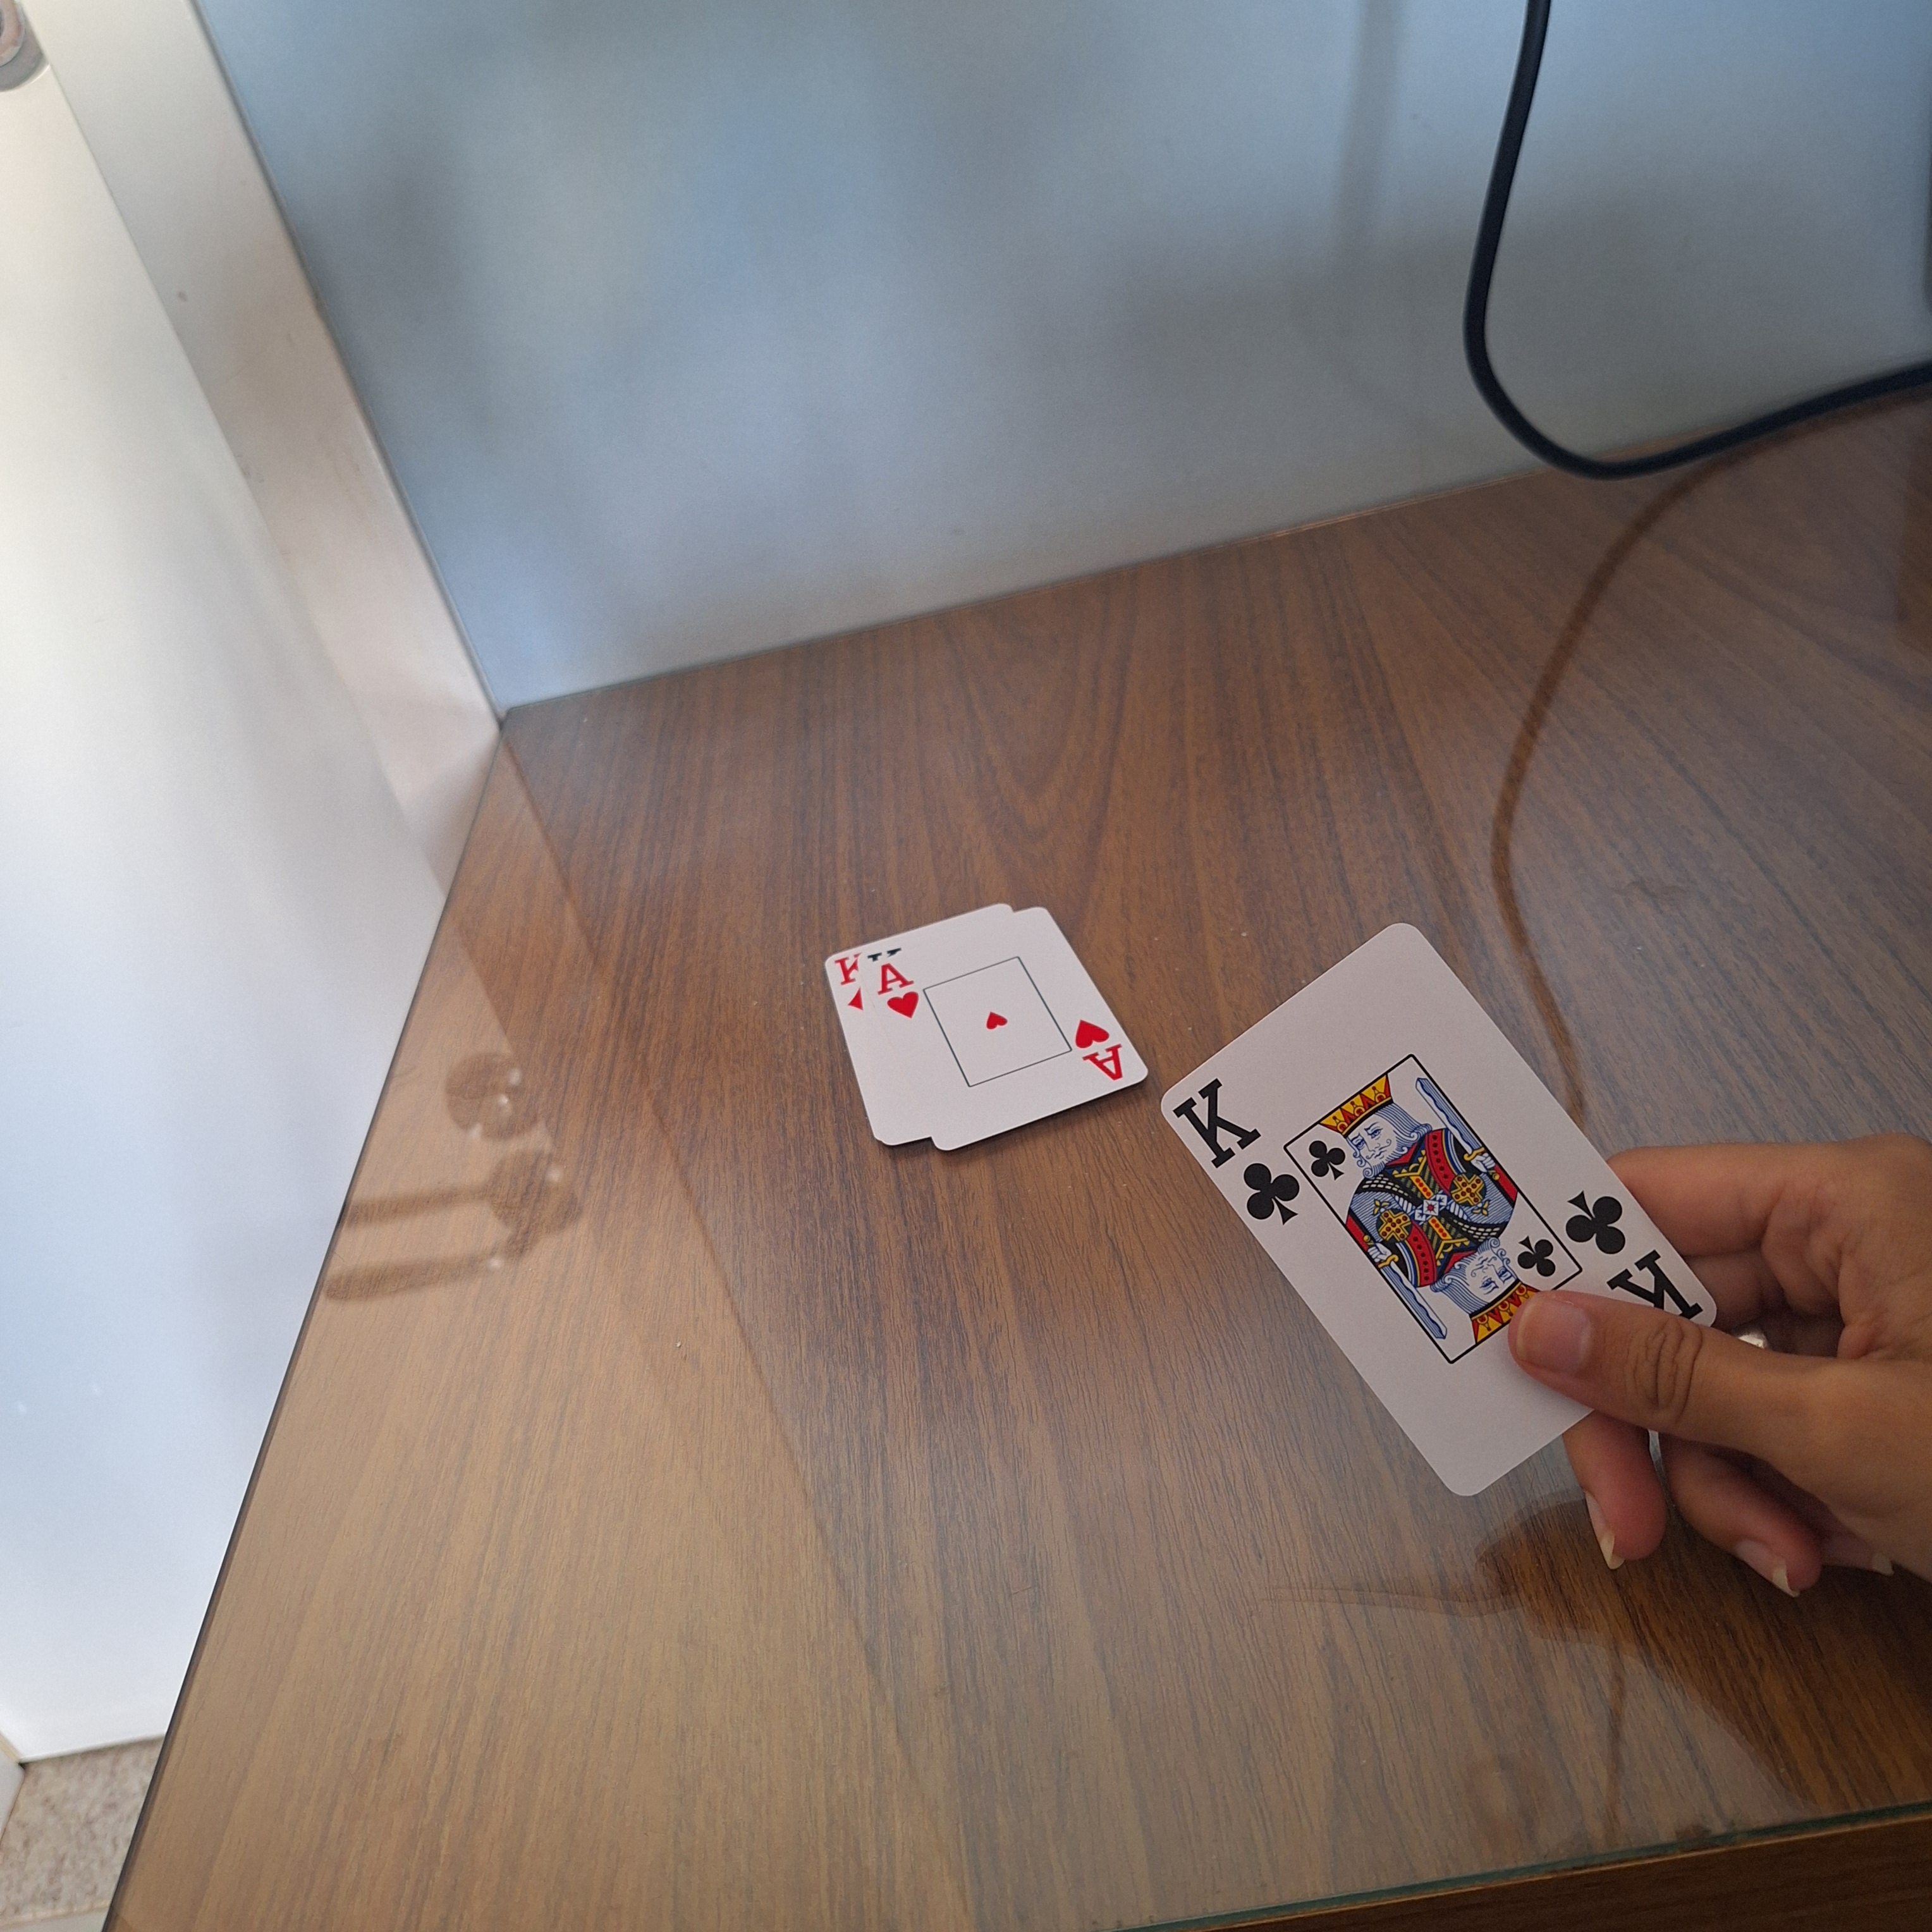AC: (1069, 1012, 1134, 1088), (878, 961, 922, 1026)
KP: (1166, 1074, 1306, 1233), (1557, 1185, 1711, 1320)
